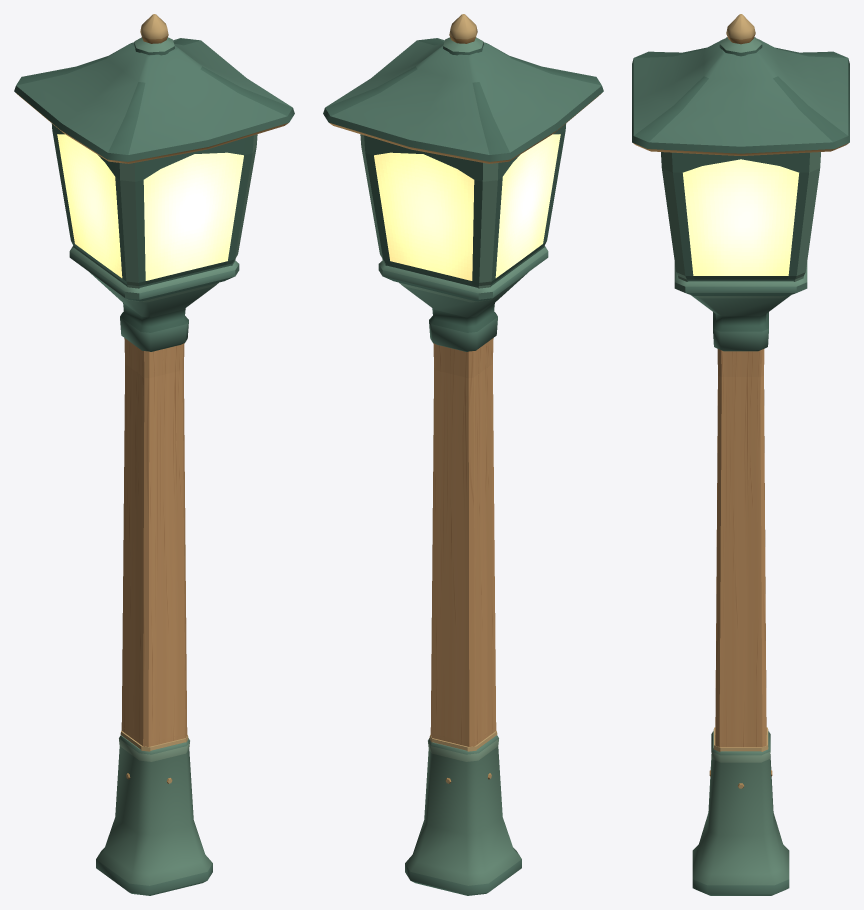
File: village-streetlamp.glb
3 views of the same model, side by side, from view 1: azimuth 30°, elevation 25°; view 2: azimuth 150°, elevation 25°; view 3: azimuth 270°, elevation 25° (orthographic).
Visible parts, largest first — view 1: WriteLoop_Village_Streetlamp; view 2: WriteLoop_Village_Streetlamp; view 3: WriteLoop_Village_Streetlamp.
Part boxes in pixels (x1,y1,x2,y2): WriteLoop_Village_Streetlamp: (14, 14, 294, 895); WriteLoop_Village_Streetlamp: (323, 14, 603, 895); WriteLoop_Village_Streetlamp: (632, 14, 849, 895).
Size of the model in its own units: 0.588 by 2.57 by 0.588.
Materials: 1 (1 with a texture image).
